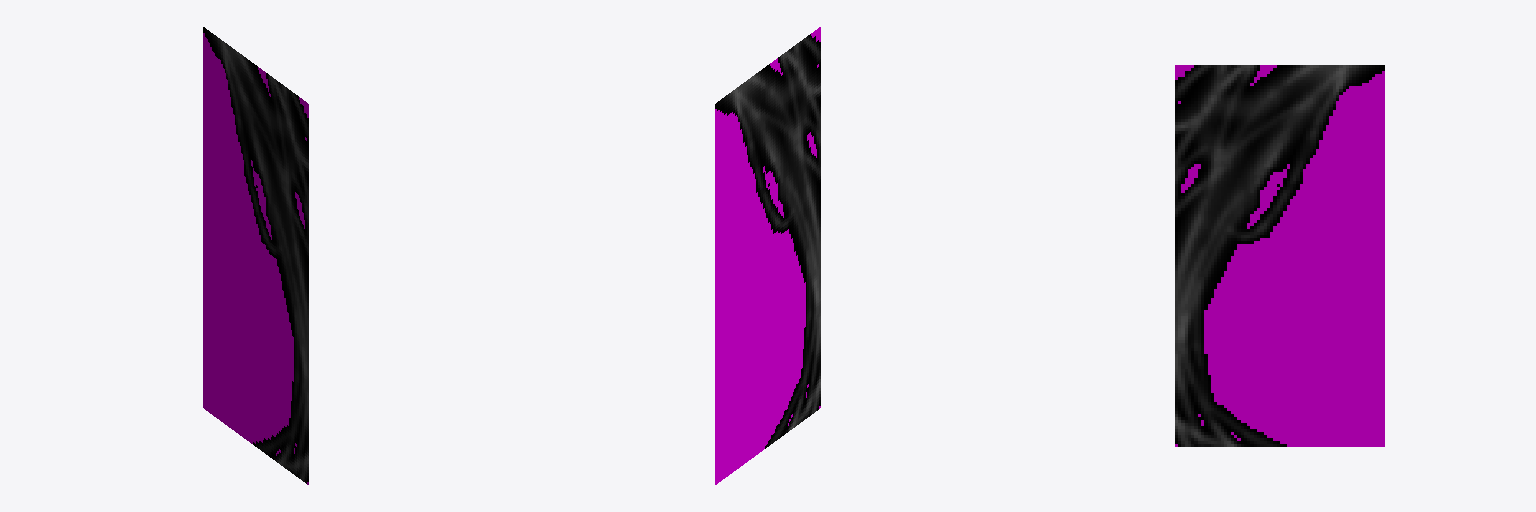
3 renders of one model, left to right at view 1: azimuth 30°, elevation 25°; view 2: azimuth 150°, elevation 25°; view 3: azimuth 270°, elevation 25°, orthographic.
Visible parts, largest first — view 1: Plane, Plane.001; view 2: Plane, Plane.001; view 3: Plane, Plane.001.
Boxes of the visible parts, x1,y1,x2,y2 form: Plane: [203, 27, 308, 484]; Plane.001: [203, 28, 308, 484]; Plane: [715, 27, 820, 484]; Plane.001: [715, 27, 820, 484]; Plane: [1175, 65, 1384, 446]; Plane.001: [1175, 65, 1384, 446].
Size of the model in its own units: 0 by 20.48 by 10.24.
Materials: 1 (1 with a texture image).